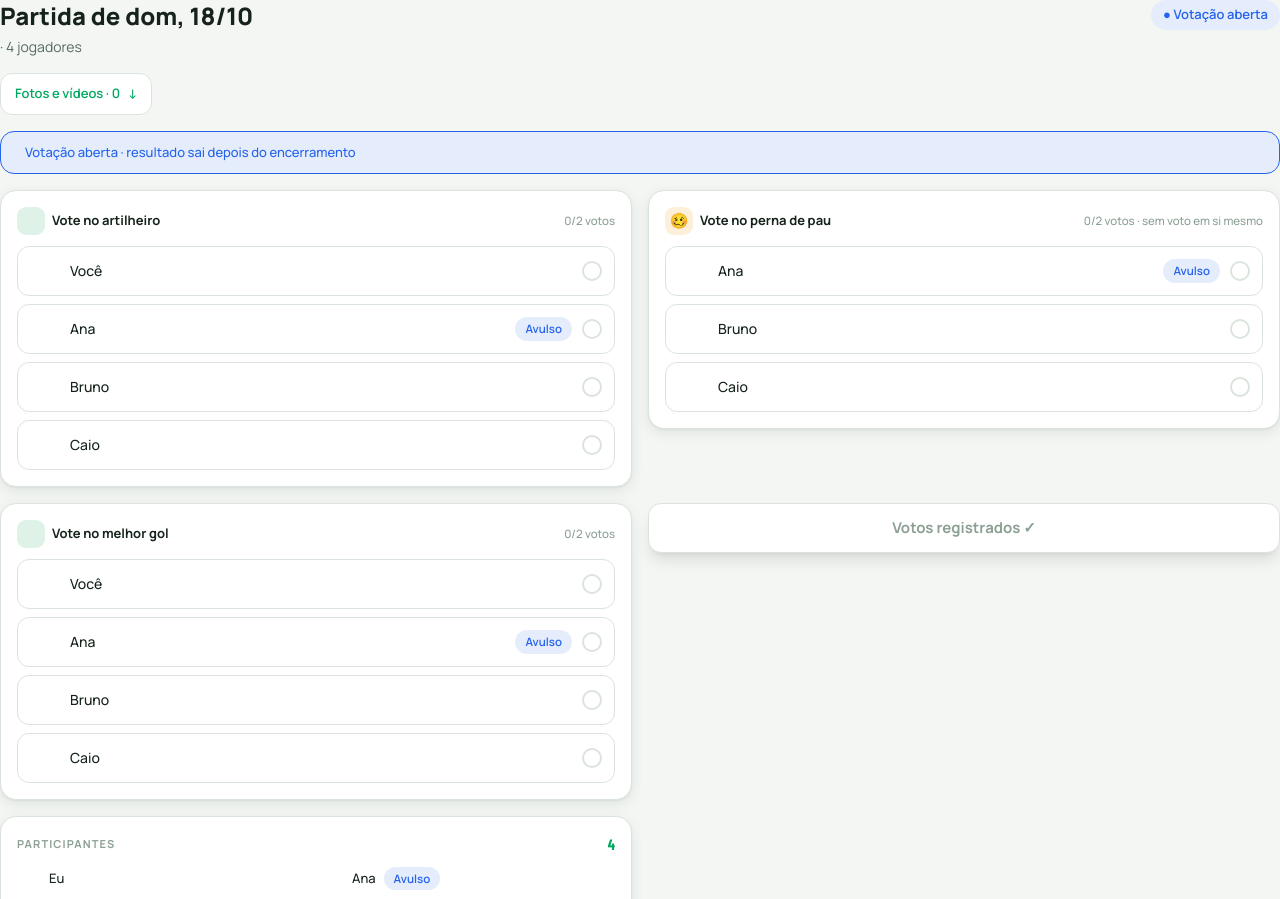
Scenario: perfil de jogadores na partida › mostra participante avulso sem consultar perfil de membro
Click the button with aria-label "Ver perfil de Ana": (412, 878) [320, 866, 615, 890]
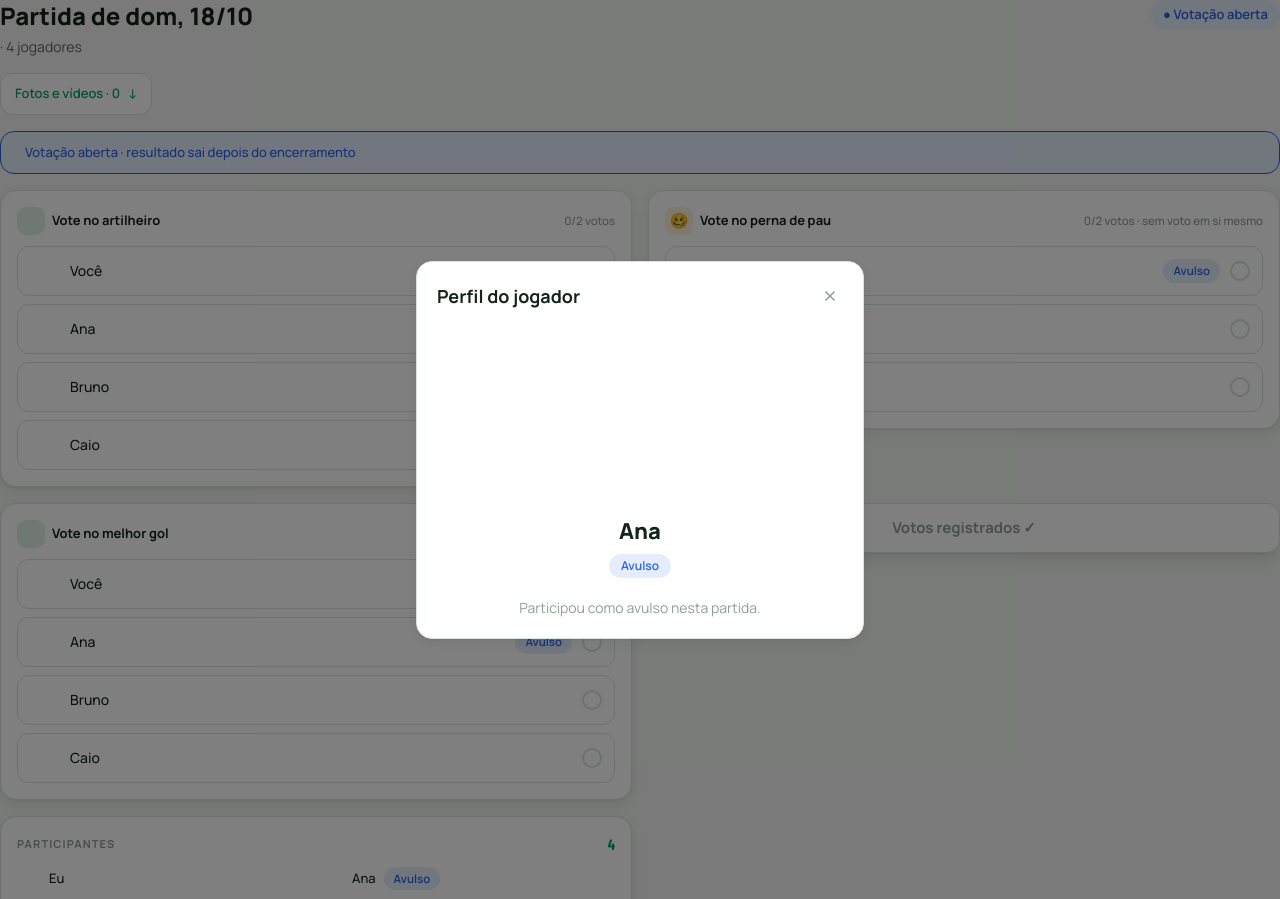
Expected: the text "Participou como avulso nesta partida." is shown, [519, 598, 761, 618]
